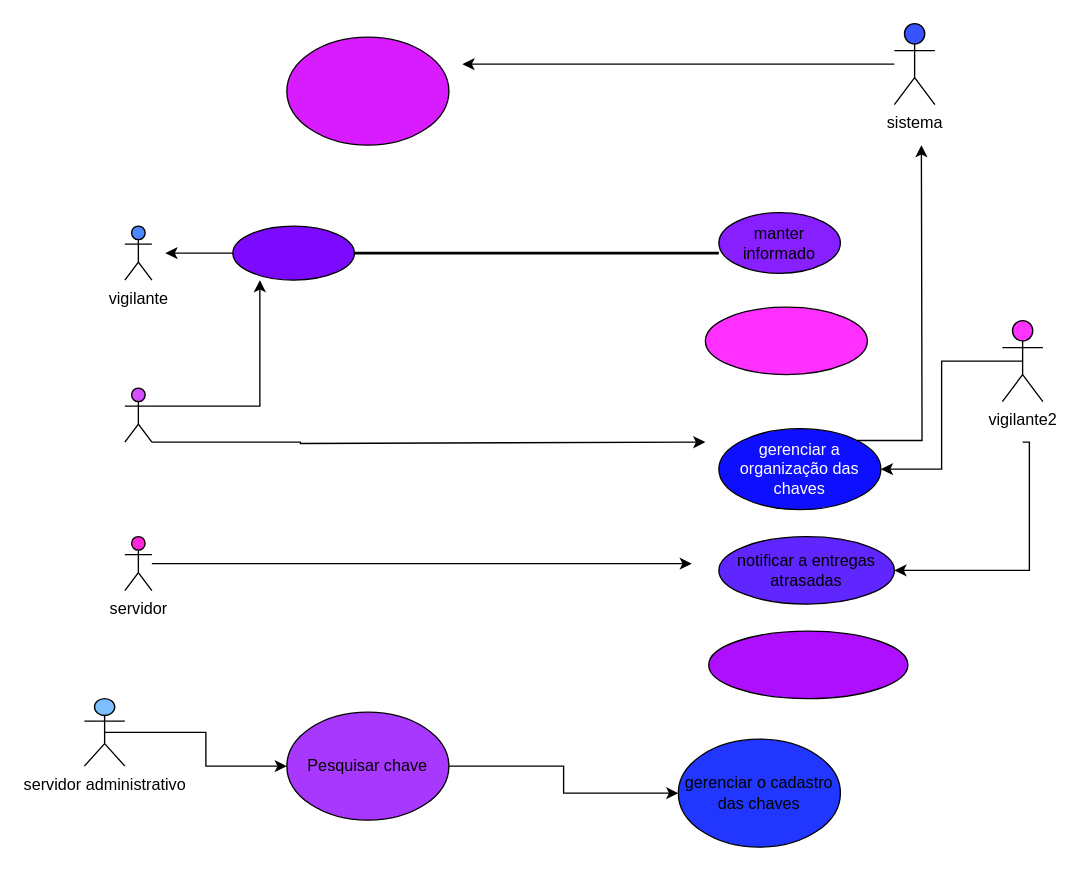
This 1080x871 diagram has some shape labels left out. Each missing label, with the centre of its shape:
cadastrar posse das chaves: (x=367, y=90)
Chaves: (x=293, y=252)
consultar alunos para o controle das chaves: (x=807, y=664)
diretor: (x=138, y=414)
registrar de quem esta com a chave: (x=785, y=340)
